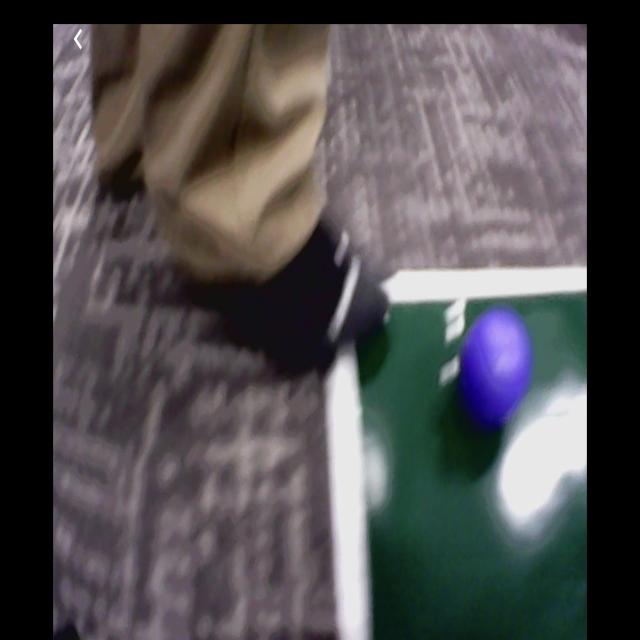ball: (462, 309, 532, 420)
